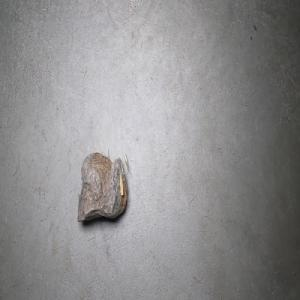Rock: (77, 148, 129, 222)
